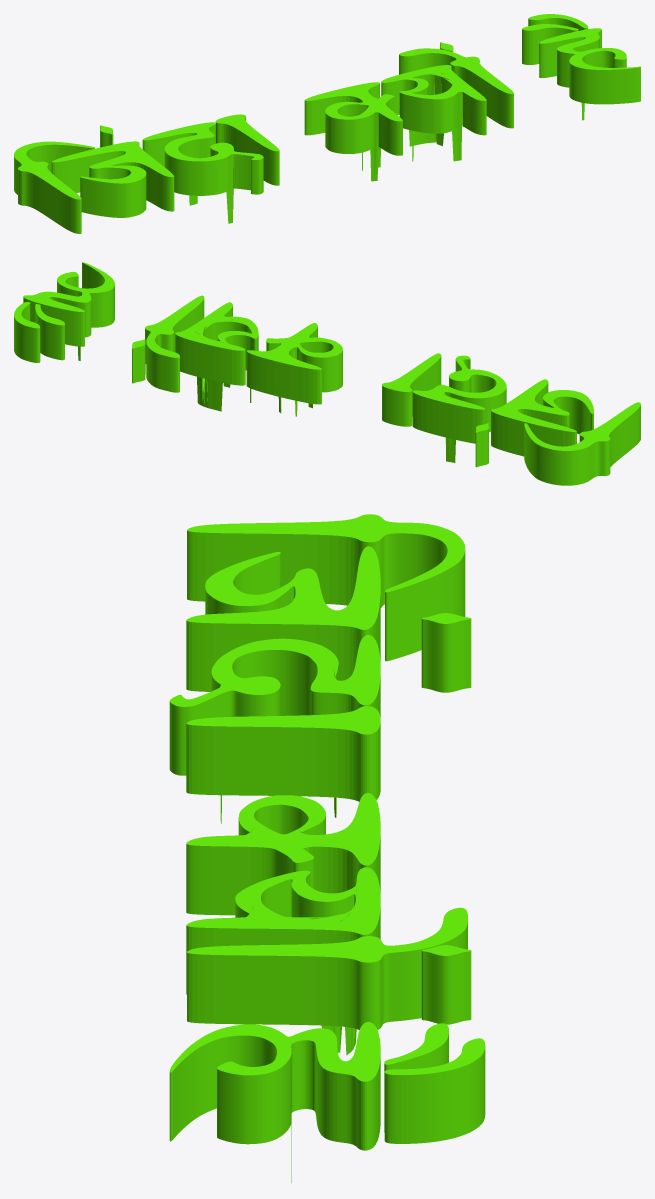
The model's file is whyyou_alive.fbx.
The picture shows the model from 3 angles, top to bottom: view 1: azimuth 30°, elevation 25°; view 2: azimuth 150°, elevation 25°; view 3: azimuth 270°, elevation 25°; orthographic projection. The views are drawn at different scales.
Parts seen in each view (by area): view 1: Text; view 2: Text; view 3: Text.
Boxes of the visible parts, x1=… form: Text: x1=14, y1=14, x2=640, y2=233; Text: x1=14, y1=262, x2=640, y2=485; Text: x1=169, y1=514, x2=485, y2=1182.
Bounding box in the file's own units: 283 × 32 × 66.44.
